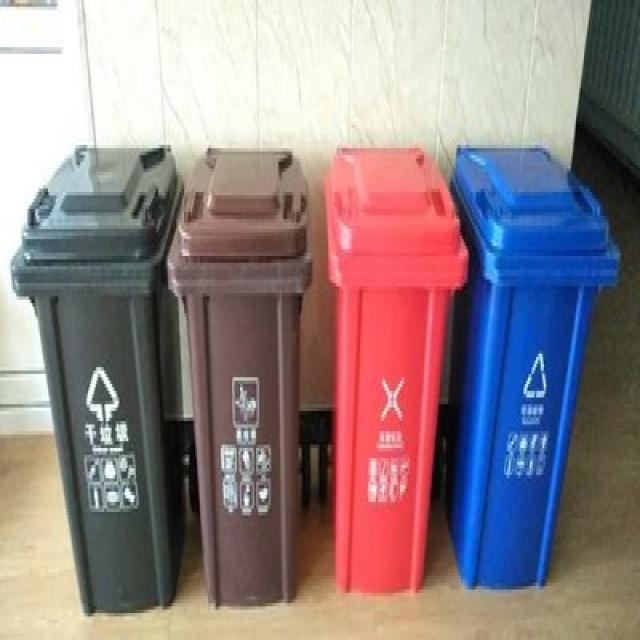ash bin: (8, 138, 182, 623), (448, 142, 621, 586), (164, 135, 314, 606), (323, 141, 466, 593)
